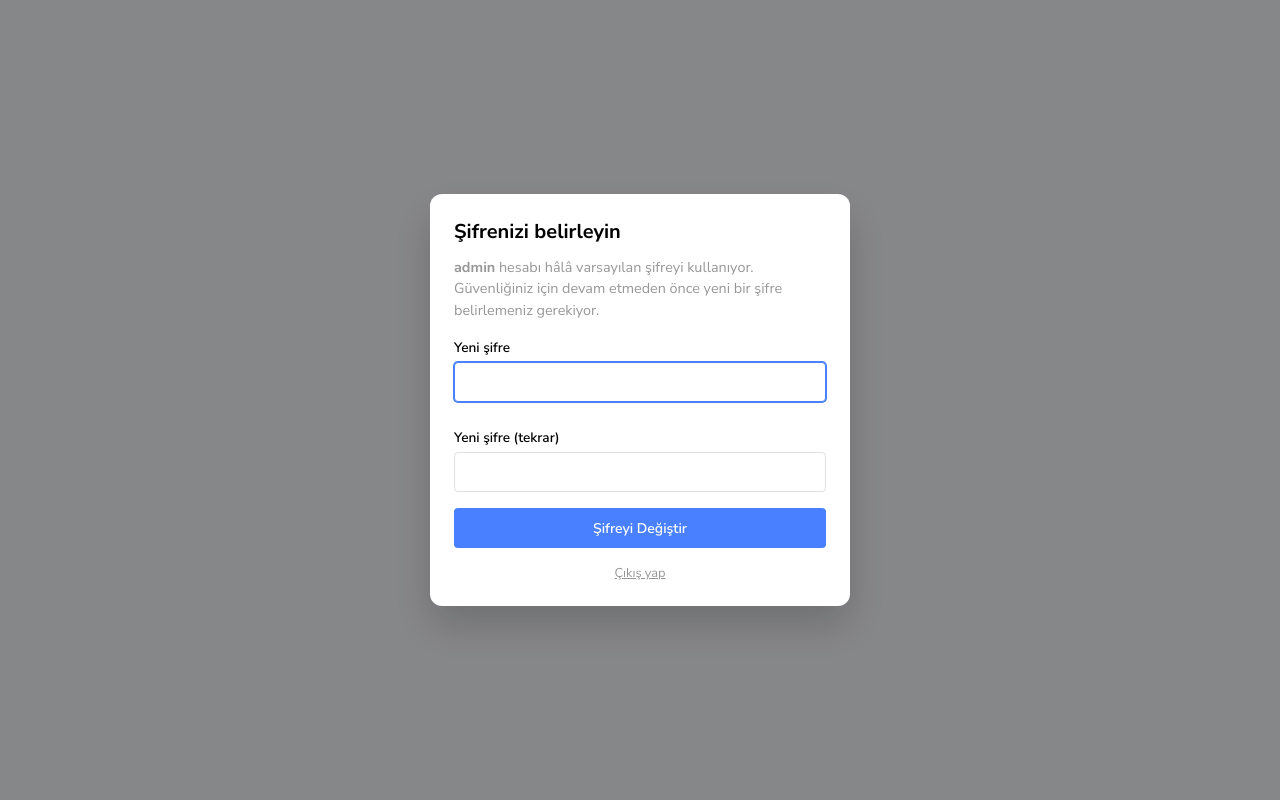
Test: ForcePasswordChange › sunucu hatası kullanıcıya gösterilir
Type "Guclu-Sifre-2026" into the password field labelled "Yeni şifre" at (640, 382), box [454, 362, 826, 402]
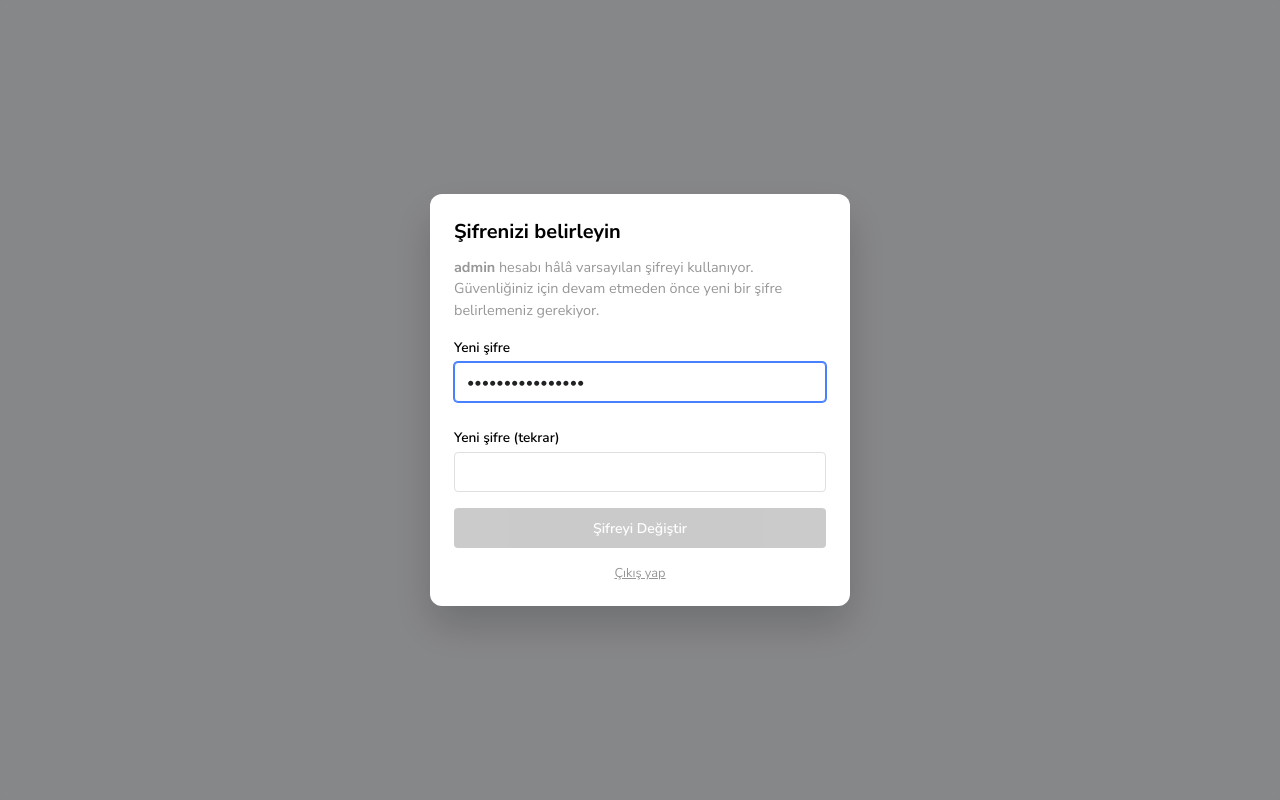
Type "Guclu-Sifre-2026" into the password field labelled "Yeni şifre (tekrar)" at (640, 472), box [454, 452, 826, 492]
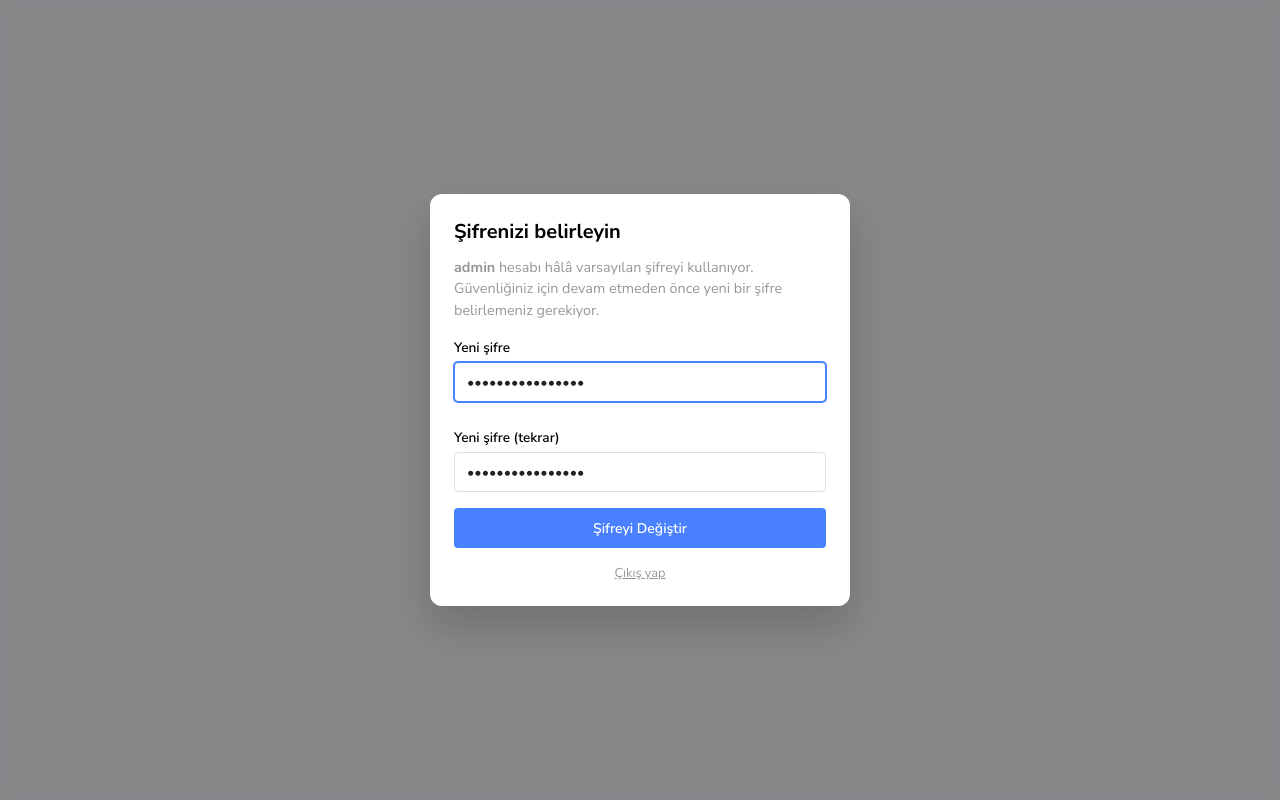
Click the button "Şifreyi Değiştir" at (640, 528), box [454, 508, 826, 548]
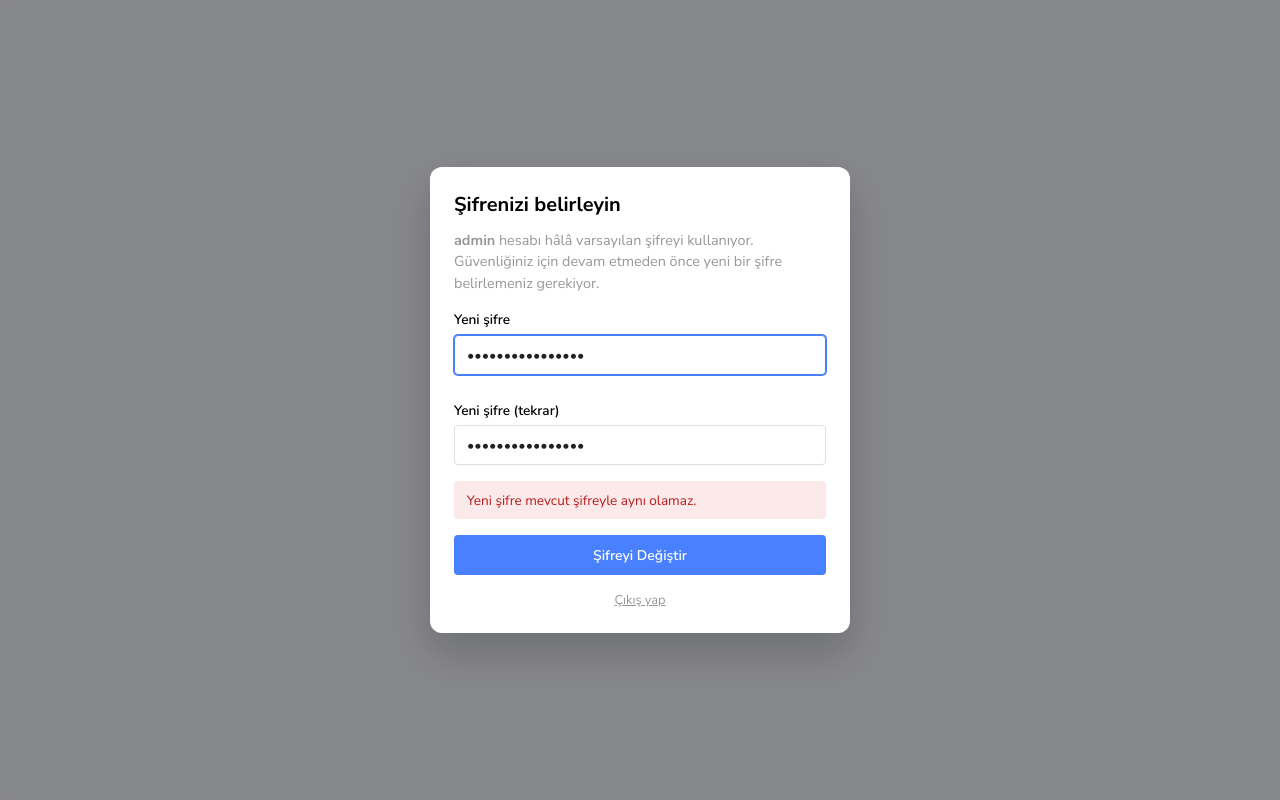
Check: the message reads "Yeni şifre mevcut şifreyle aynı olamaz.", box [467, 491, 696, 510]
